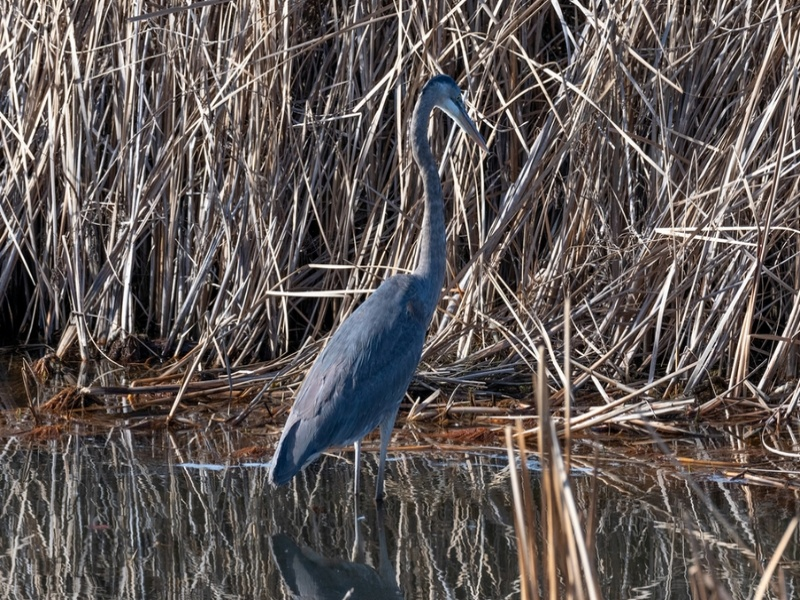heron: (267, 72, 486, 519)
